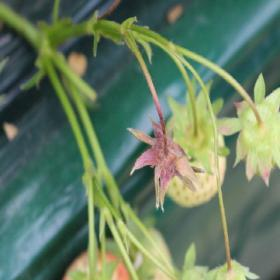Gray Mold: (128, 117, 206, 211)
